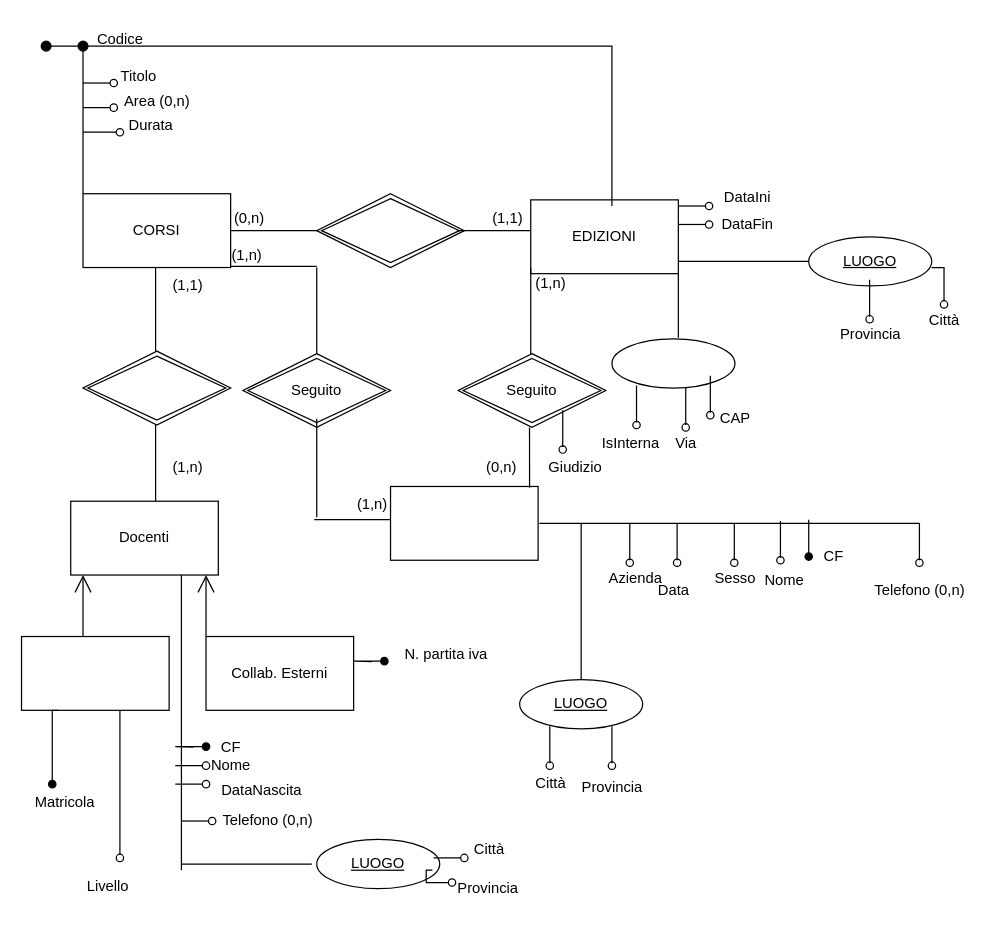
Some shapes in this 1002 by 927 pixel diagram are drawn without their labels. Here are the shapes that lost their labels. From the top down, the box of each, then its label:
(315, 192, 464, 268): Contiene
(611, 338, 735, 388): SEDE
(82, 350, 231, 425): Insegnano
(389, 485, 538, 560): Partecipanti
(20, 635, 169, 710): Dipendenti
